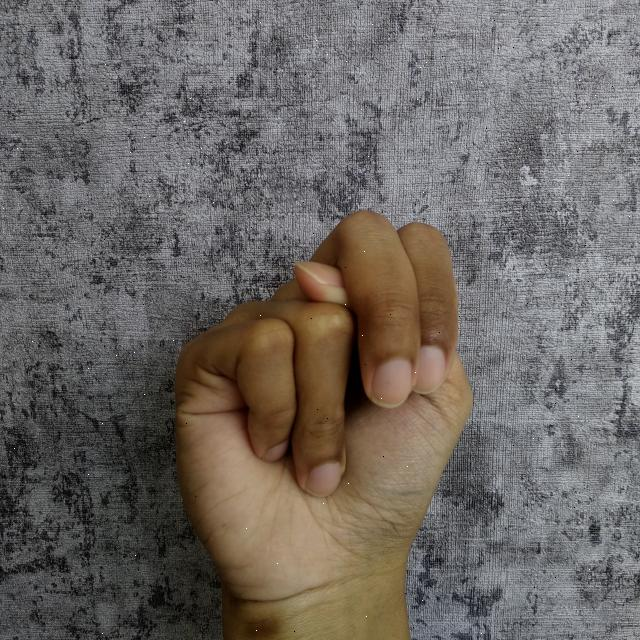M: (166, 197, 488, 640)
